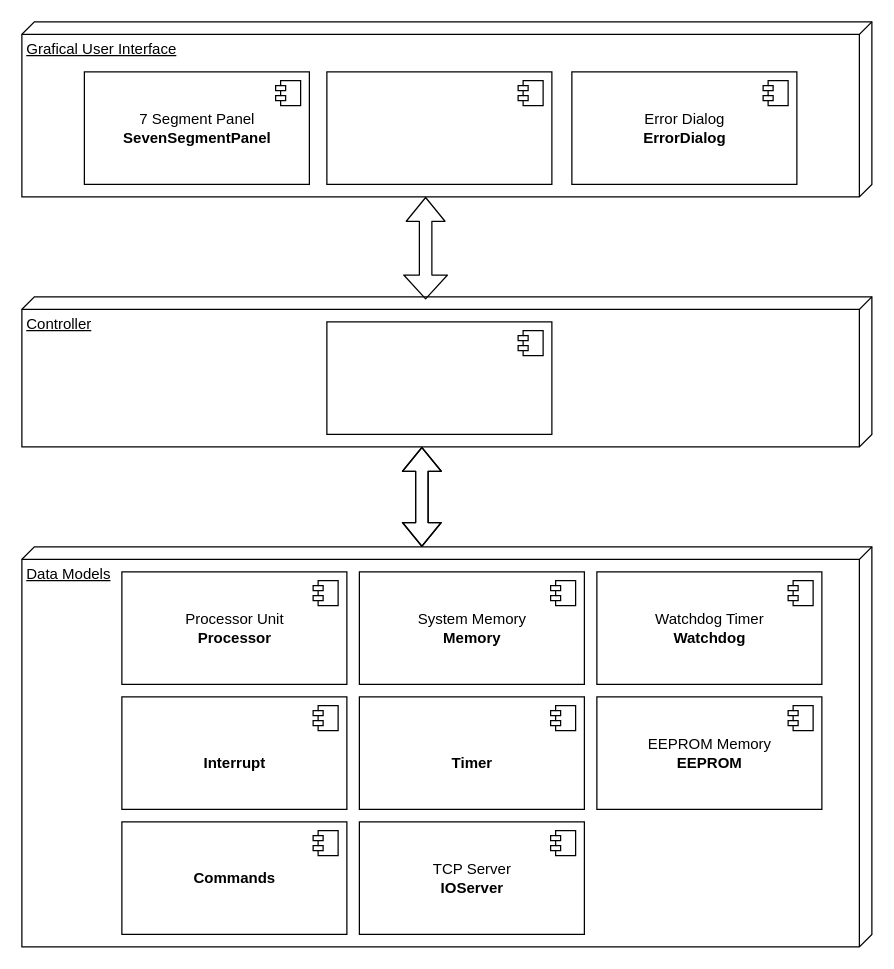
Image size: 894x969. Some labels were removed from this diagram. The shapes that lost their labels are listed below. From the top down, each one's centre as x and y in pixels, then its label:
At (x=439, y=127): "Main Window Simulator_Window".
At (x=439, y=377): "Main Controller Controller".
